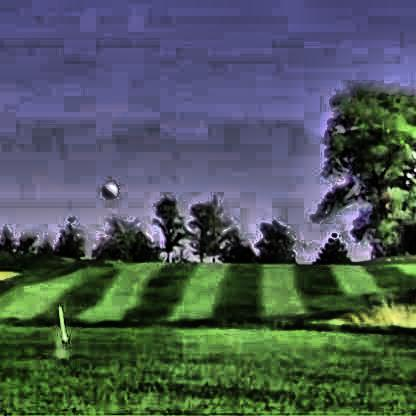golfball: (98, 179, 114, 198)
